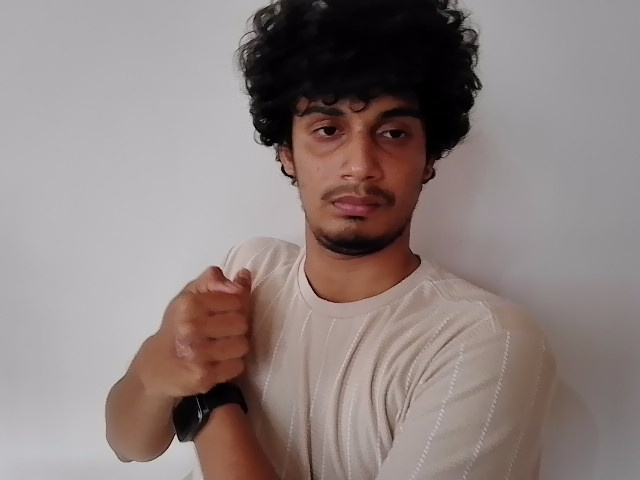love: (164, 263, 251, 395)
